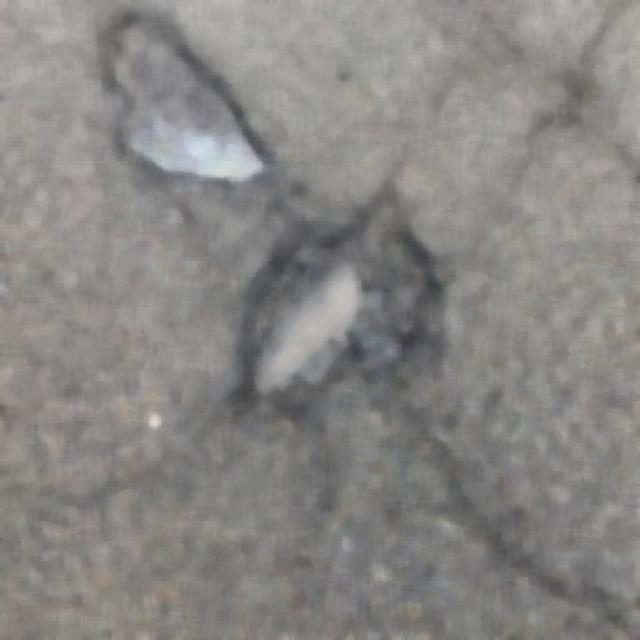pothole: (239, 215, 444, 426), (123, 10, 291, 199)
